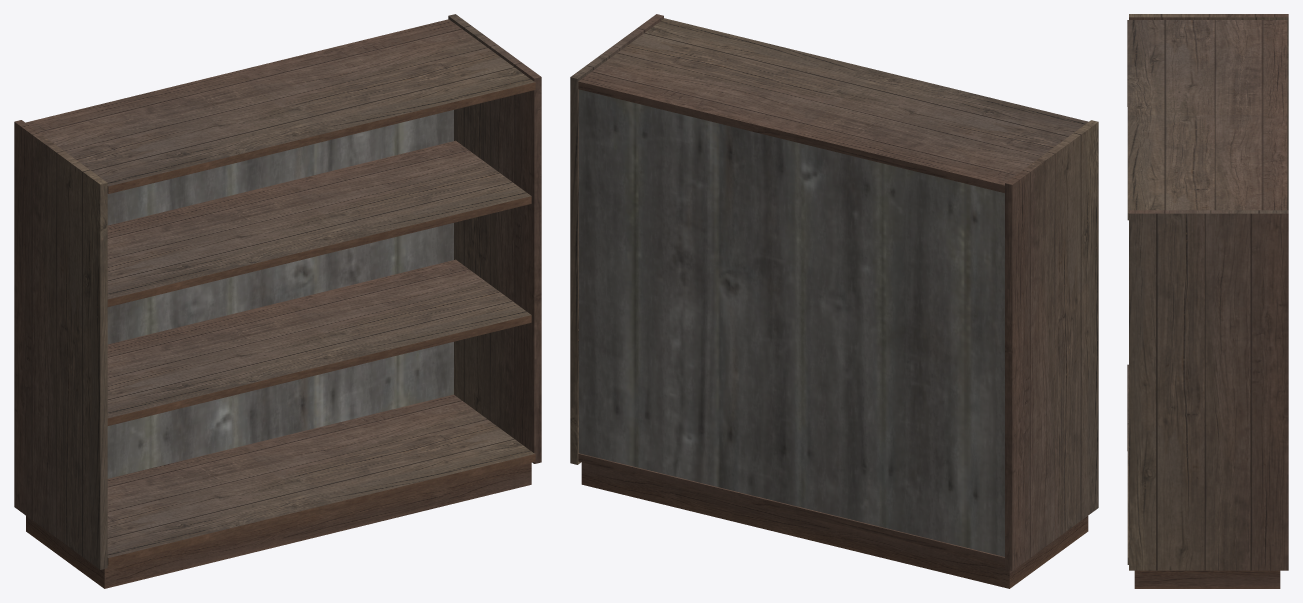
The model's file is jov_shelf01b.fbx.
The picture shows the model from 3 angles, left to right: view 1: azimuth 30°, elevation 25°; view 2: azimuth 150°, elevation 25°; view 3: azimuth 270°, elevation 25°; orthographic projection. The views are drawn at different scales.
Parts seen in each view (by area): view 1: jov_shelf01b; view 2: jov_shelf01b; view 3: jov_shelf01b.
Part boxes in pixels (box(x1,y1,x2,y2)): jov_shelf01b: box(14, 14, 541, 588); jov_shelf01b: box(570, 14, 1098, 588); jov_shelf01b: box(1127, 14, 1288, 588).
Bounding box in the file's own units: 149 × 132 × 50.97.
